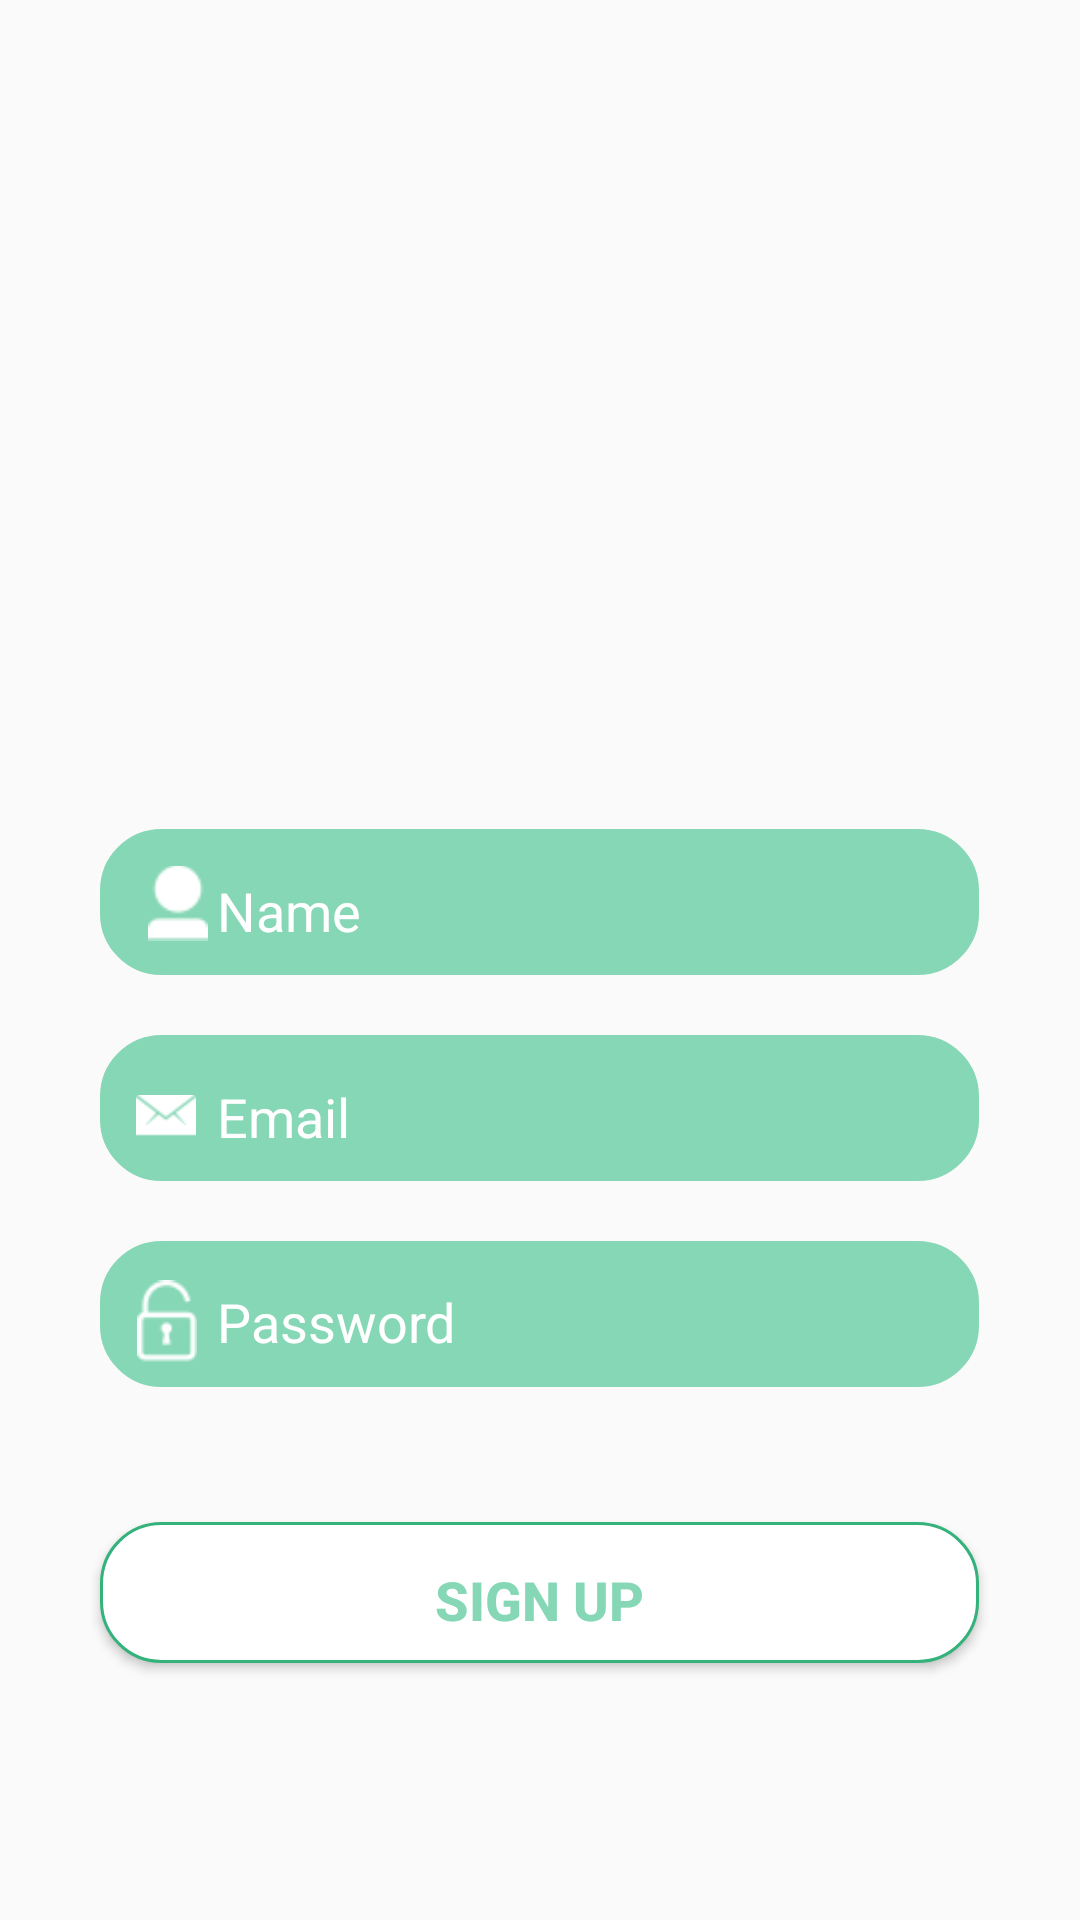

Point at icon controls on the screen. Image size 1080px x 1920px, points as (x,y).
user: (178,903)
